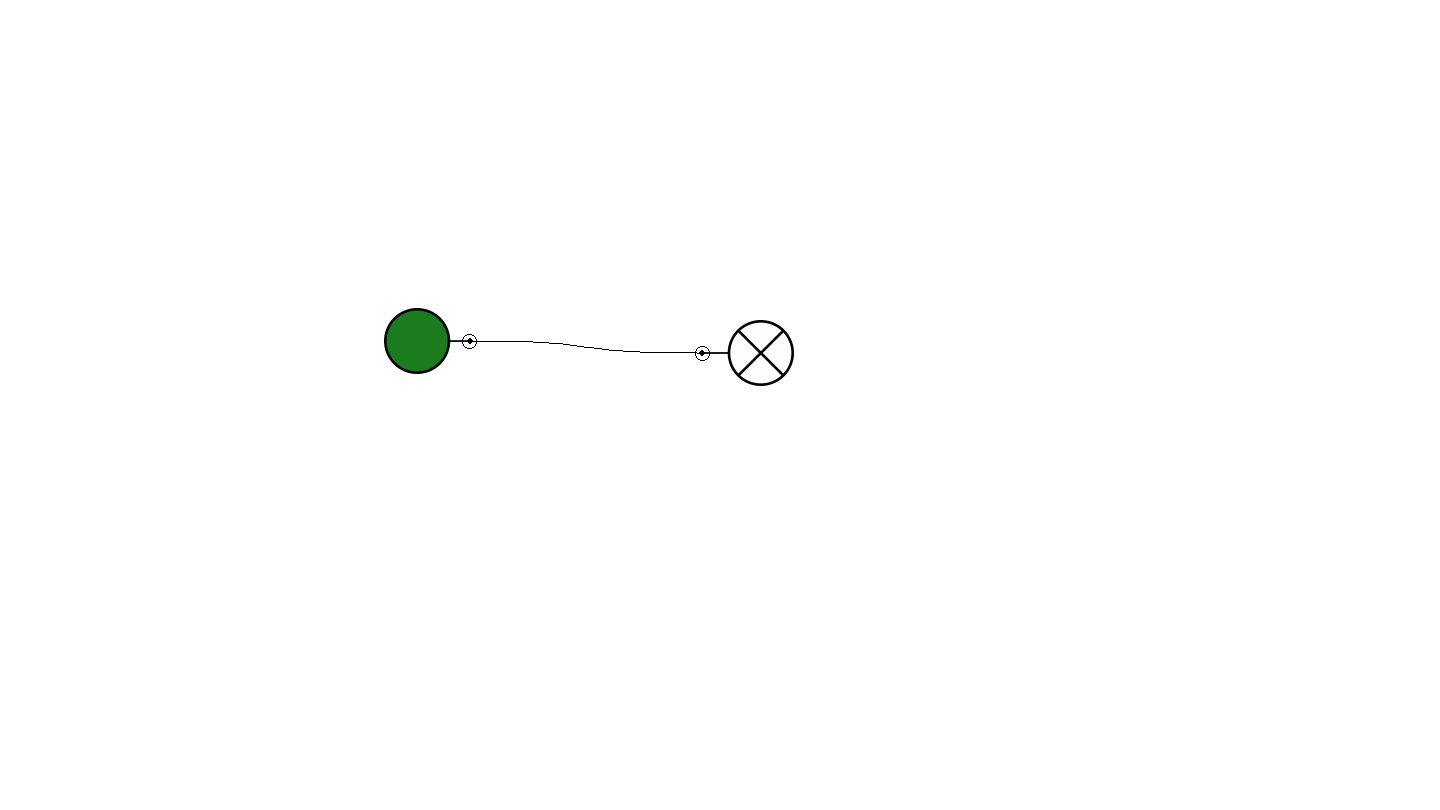bulb: (695, 320, 794, 386)
switch_True: (384, 308, 477, 374)
